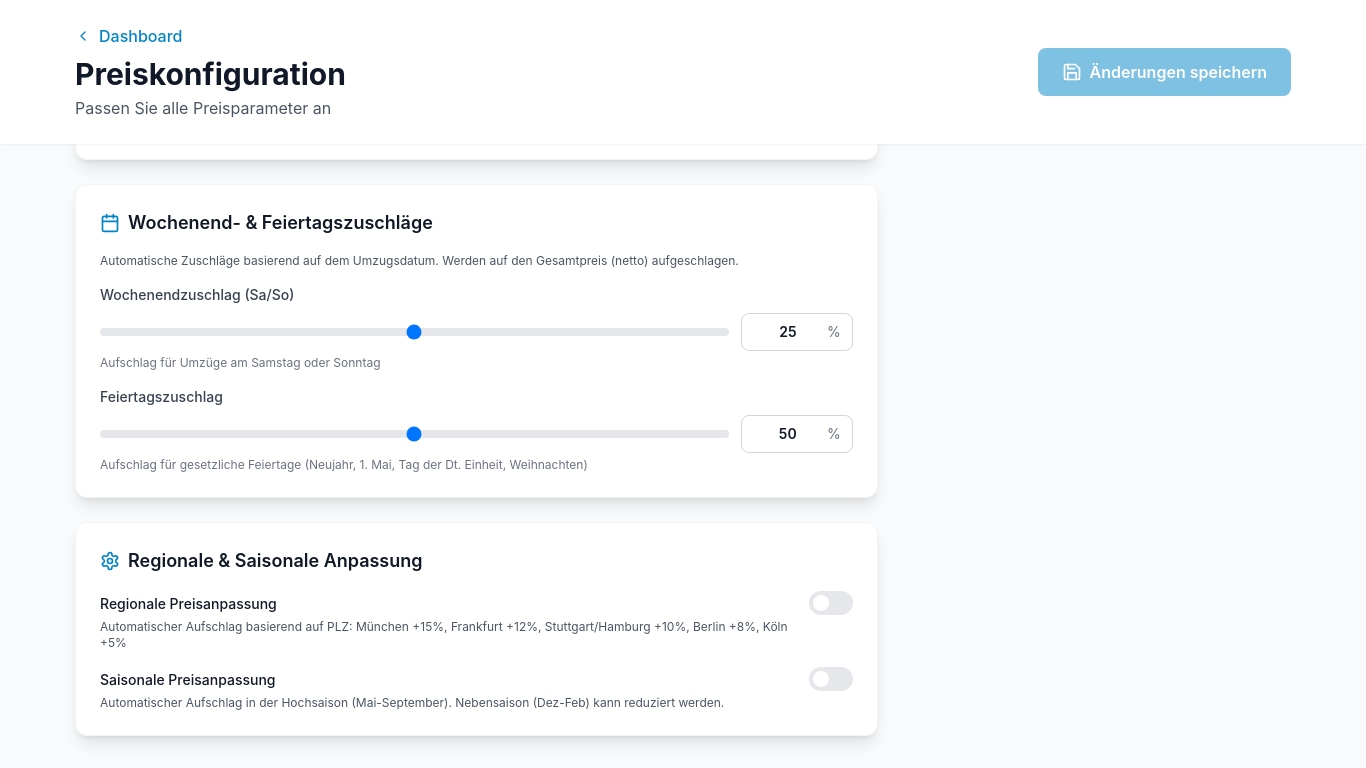
it: Save › shows success message after save
(page scrolled)
Step 1. Click the button without text in the row of "Regionale Preisanpassung" → click(831, 603), box [809,591,853,615]
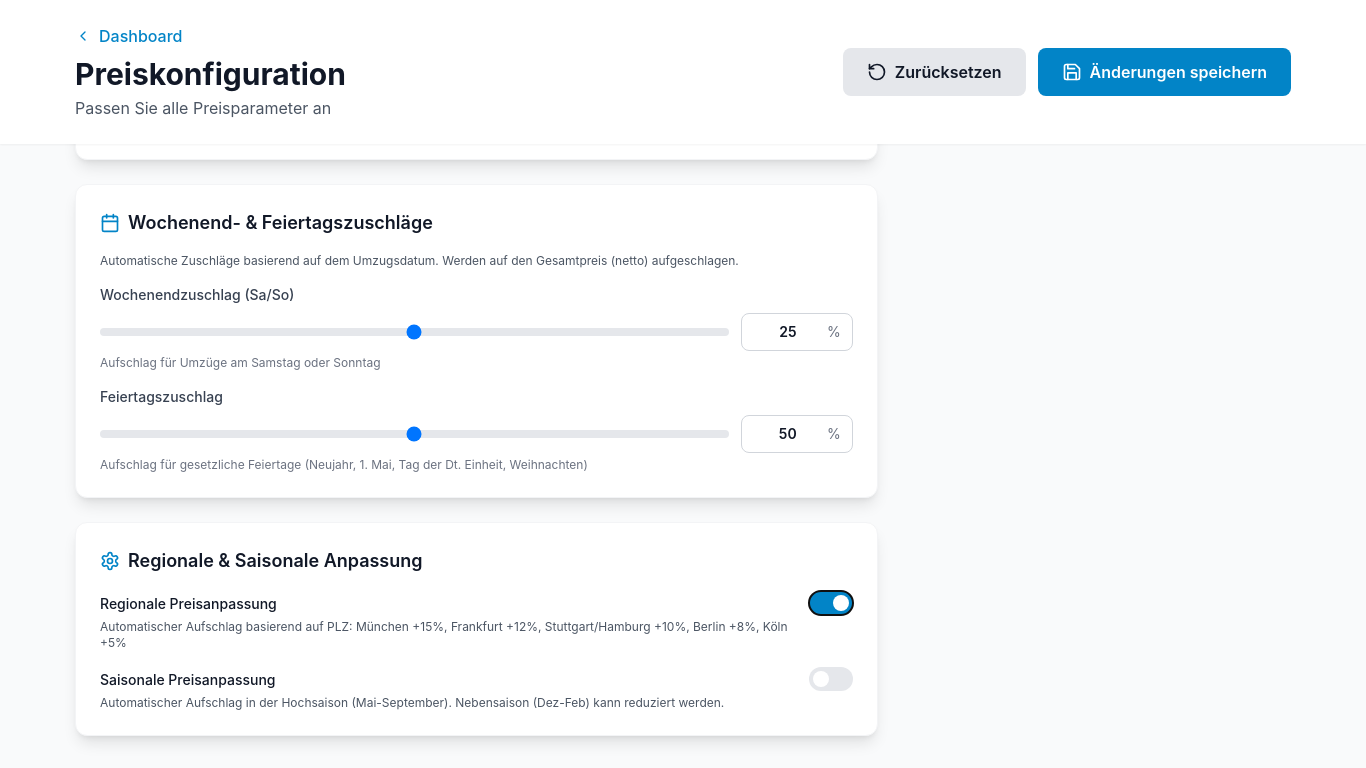
Step 2. Click the button "Änderungen speichern" → click(1164, 72), box [1038,48,1291,96]
(page scrolled)
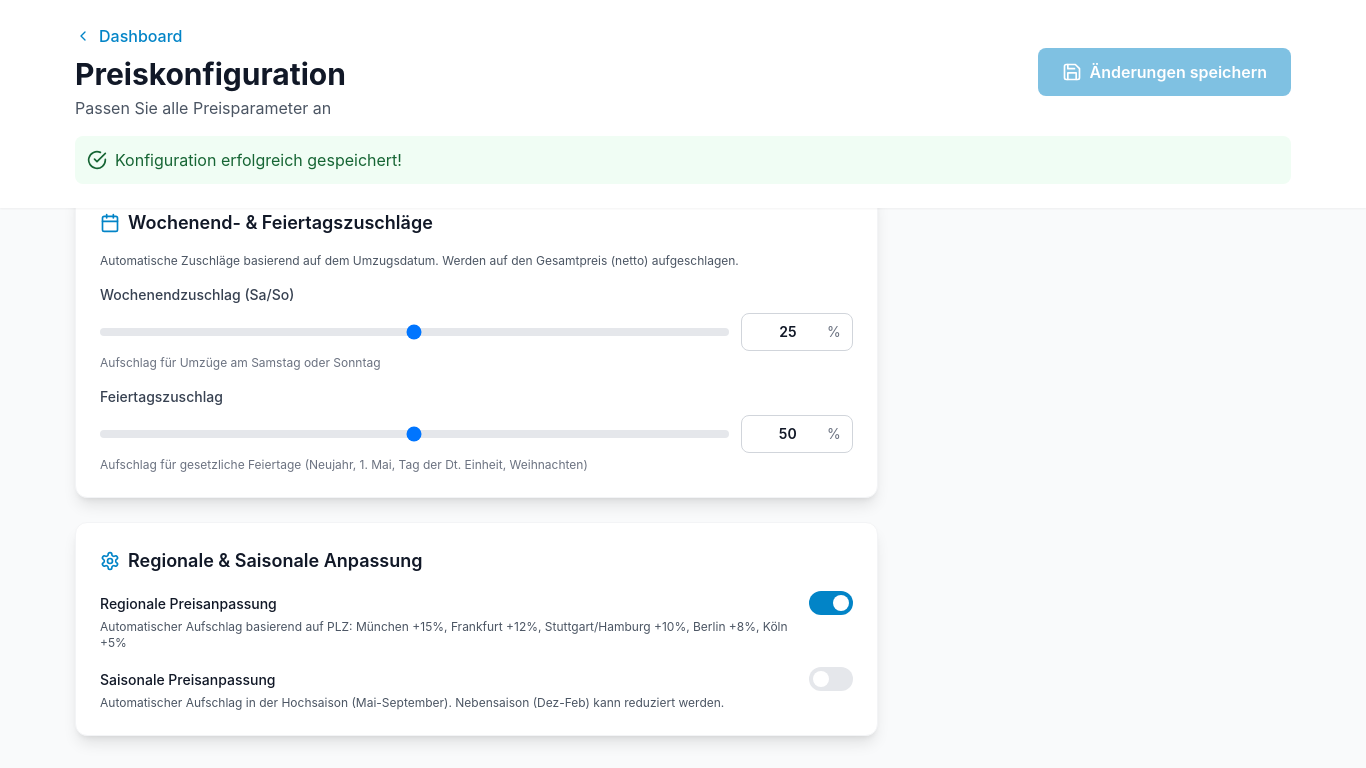
Result: the text "Konfiguration erfolgreich gespeichert!" is shown at [115,148,402,172]
